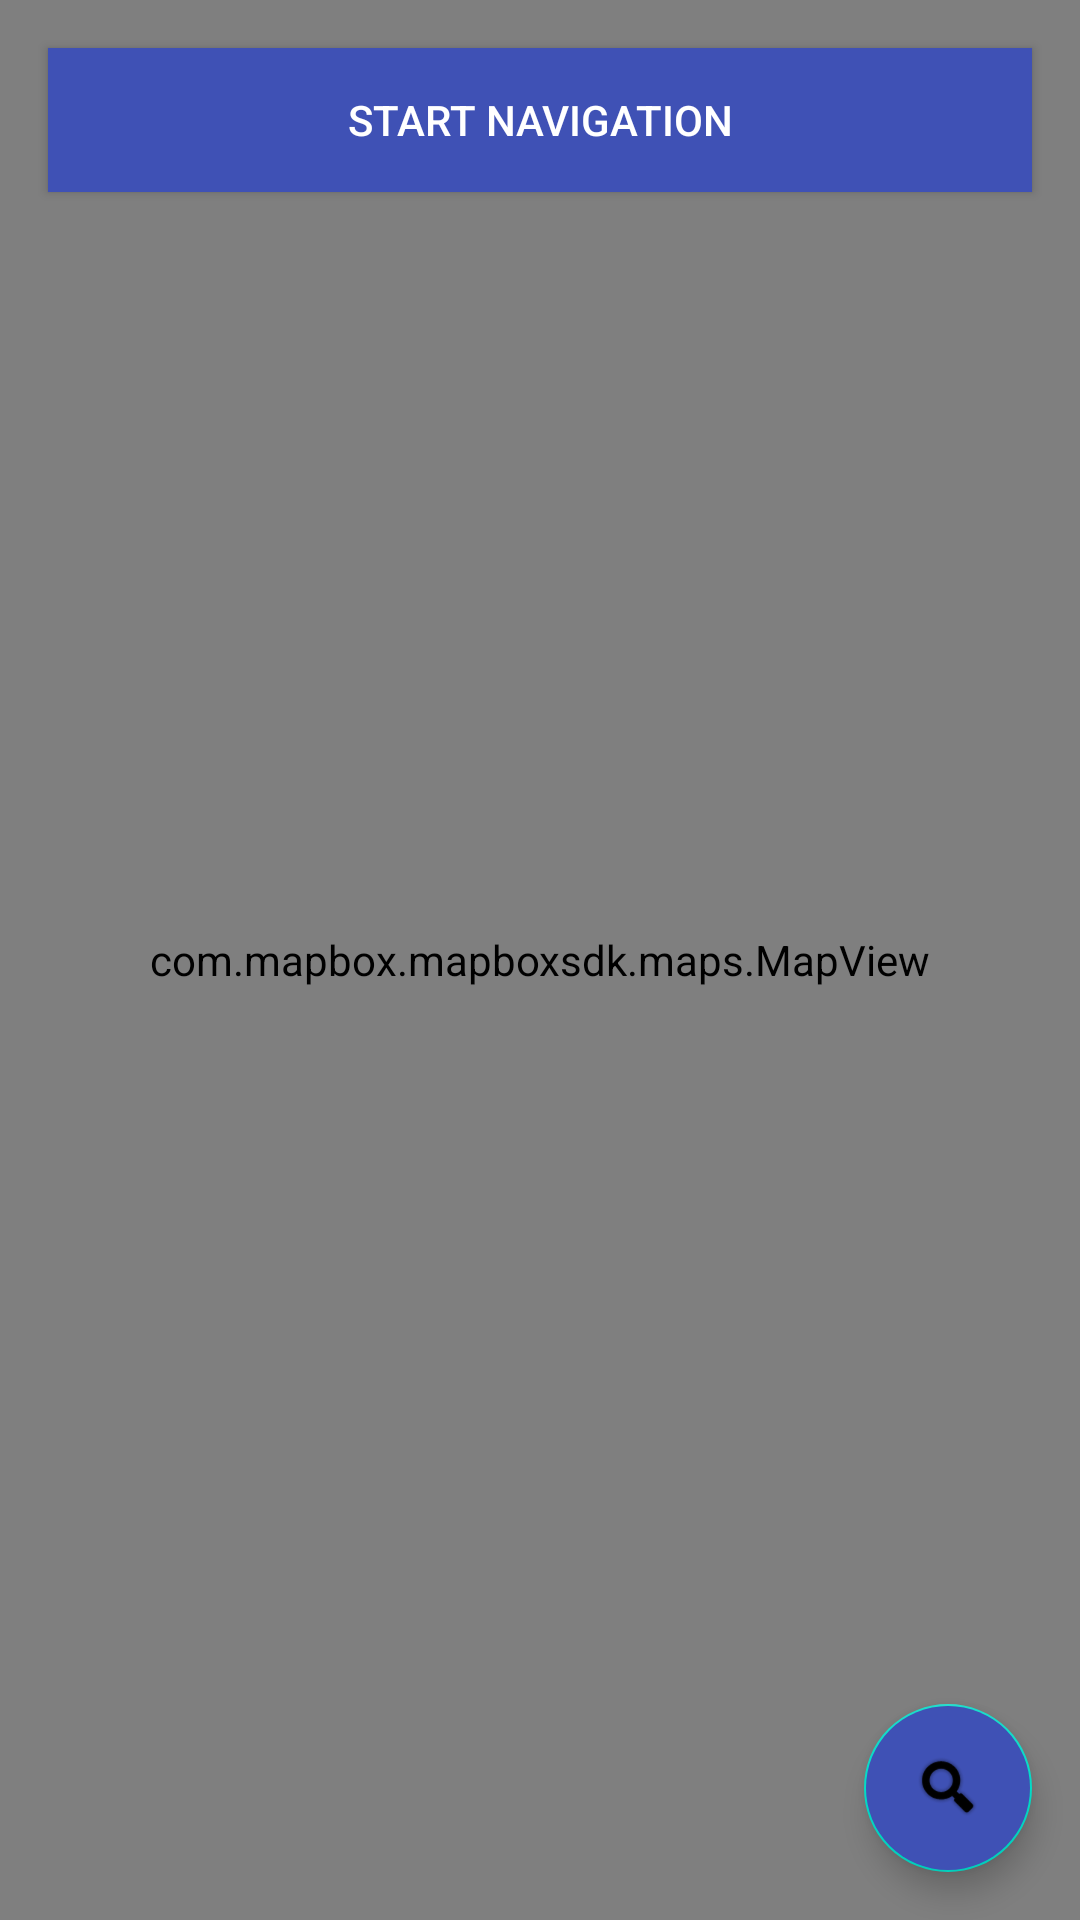

Named icons in this screenshot (1080*1920) and their centers, point (x, y):
search category: point (948, 1788)
